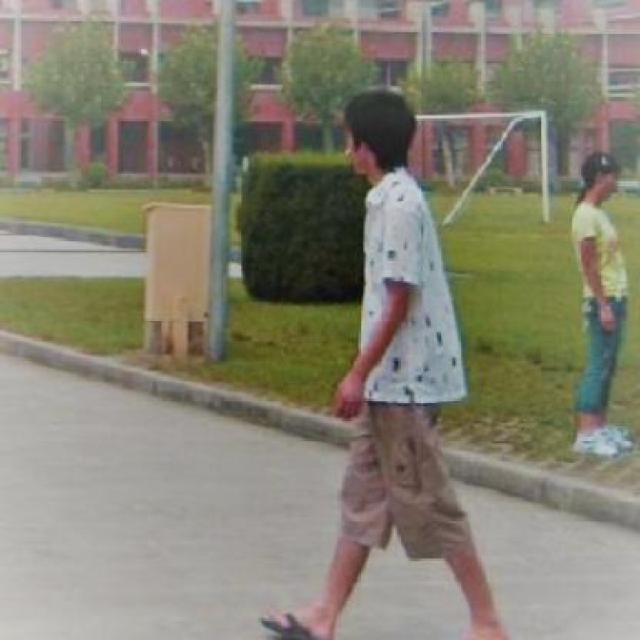Person: (258, 84, 519, 638), (554, 144, 638, 473)
